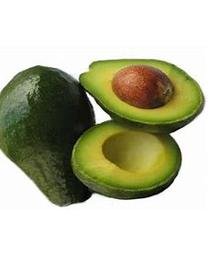avocado: (0, 58, 97, 207), (78, 59, 205, 134), (70, 121, 183, 200)
